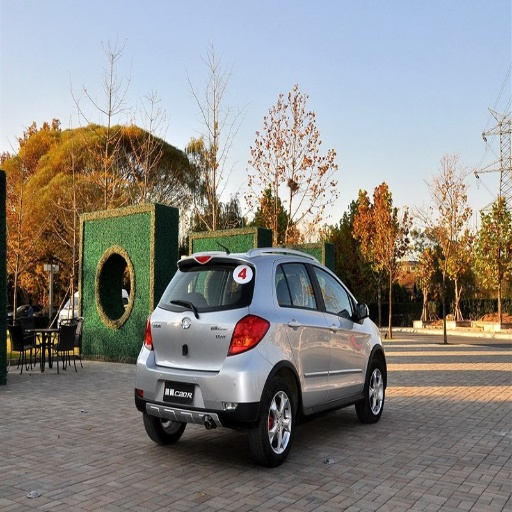back_bumper: (133, 349, 271, 425)
back_right_door: (279, 258, 328, 404)
trunk: (145, 311, 240, 371)
